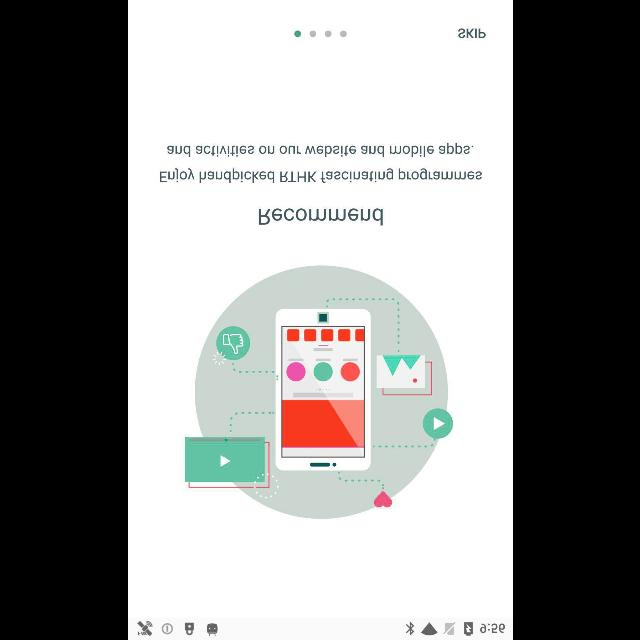image: (184, 265, 452, 519)
pageindicator: (294, 30, 346, 38)
text: (158, 142, 482, 184), (258, 208, 382, 226), (457, 28, 485, 38)
uppertaskbar: (128, 617, 512, 639)
